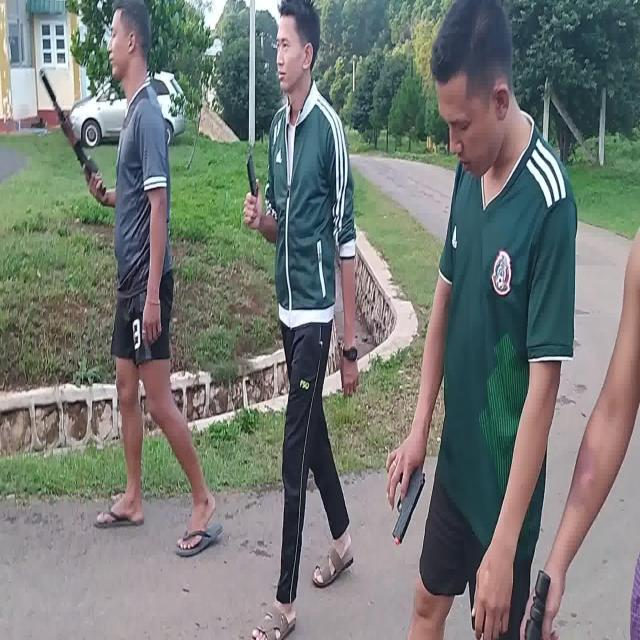gun: (39, 70, 107, 193), (391, 471, 425, 543)
